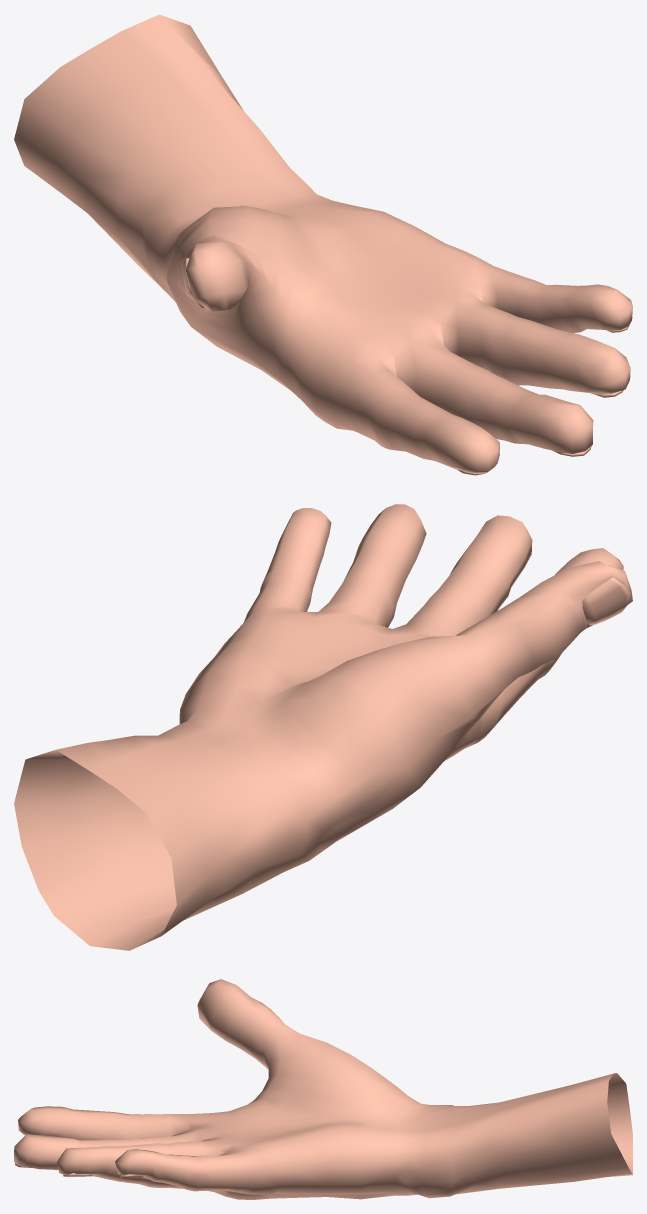
File: 4_3_HandSmoothRighFront.glb
The picture shows the model from 3 angles, top to bottom: view 1: azimuth 30°, elevation 25°; view 2: azimuth 150°, elevation 25°; view 3: azimuth 270°, elevation 25°; orthographic projection. The views are drawn at different scales.
Parts seen in each view (by area): view 1: hand1_polySurface891.003; view 2: hand1_polySurface891.003; view 3: hand1_polySurface891.003.
Boxes of the visible parts, box(x1,y1,x2,y2) form: hand1_polySurface891.003: box(14, 14, 632, 475); hand1_polySurface891.003: box(14, 504, 632, 950); hand1_polySurface891.003: box(14, 979, 632, 1199).
Size of the model in its own units: 0.0875 by 0.0487 by 0.1779.
